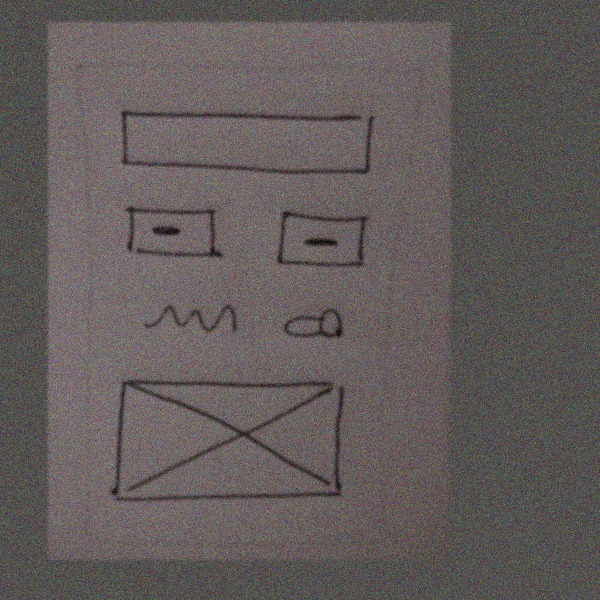button: (116, 199, 232, 270), (270, 205, 376, 276)
image: (106, 378, 352, 504)
switch: (274, 303, 354, 348)
text: (139, 295, 245, 338)
text_input: (111, 105, 377, 183)
